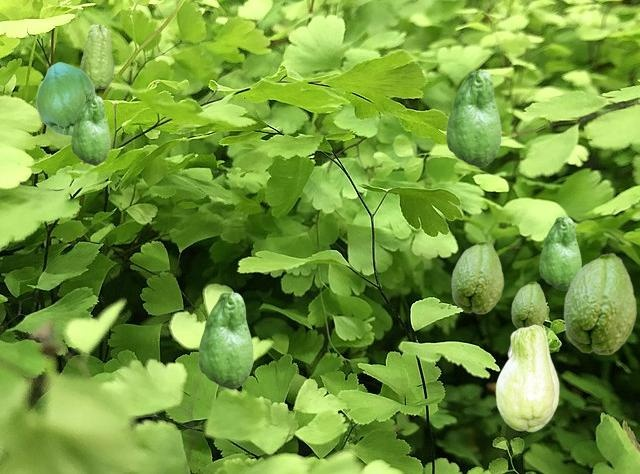sayote: (563, 252, 636, 354), (495, 324, 558, 431), (446, 69, 500, 166), (198, 291, 252, 388), (36, 62, 94, 135), (451, 240, 503, 313), (539, 216, 580, 289), (71, 95, 109, 164), (80, 24, 113, 88), (511, 281, 546, 328)
